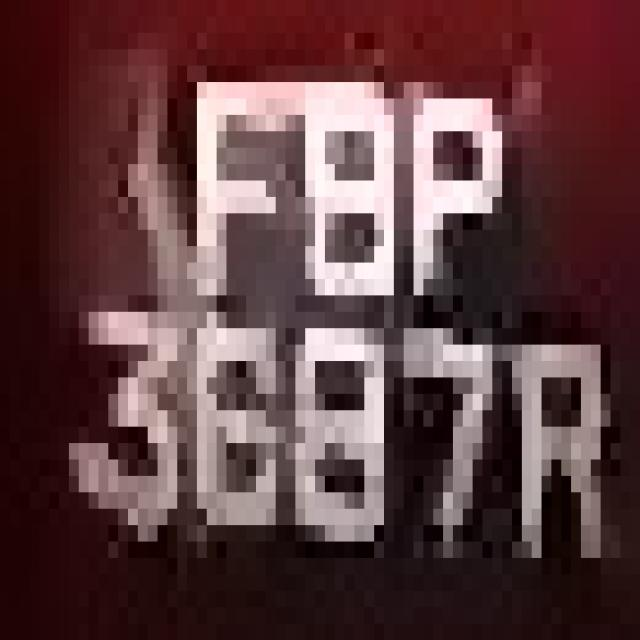3: (69, 229, 157, 542)
6: (148, 312, 266, 558)
7: (384, 279, 502, 640)
8: (266, 262, 374, 590)
B: (286, 50, 384, 378)
F: (157, 66, 276, 344)
P: (384, 0, 502, 345)
R: (502, 312, 630, 591)
